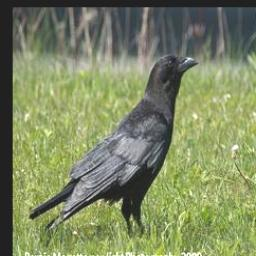Crow: (28, 53, 200, 241)
